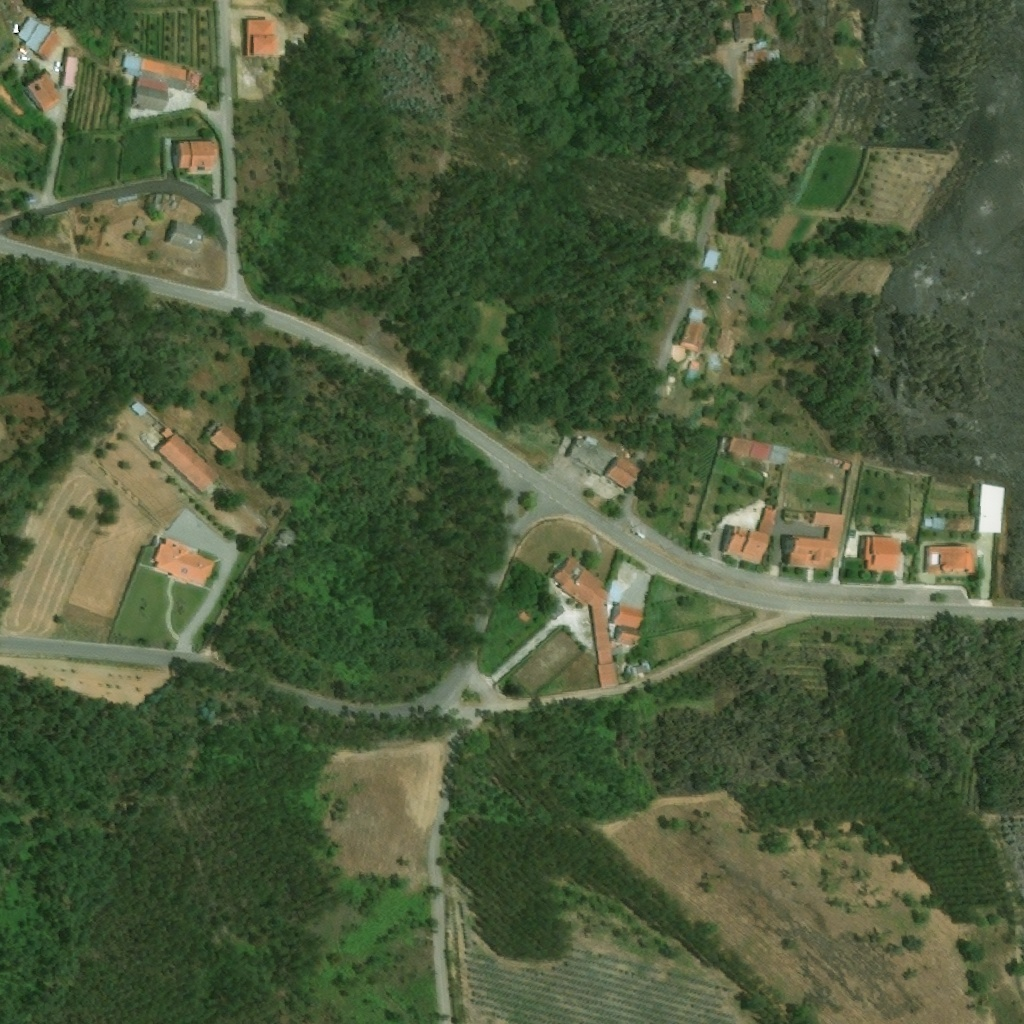0 no-damage: (155, 422, 222, 498), (149, 539, 217, 589), (552, 558, 610, 606), (567, 434, 618, 476), (720, 521, 762, 571), (922, 543, 981, 576), (172, 140, 220, 176), (787, 537, 840, 569), (24, 71, 63, 113), (976, 484, 1006, 534), (590, 606, 615, 666), (165, 219, 205, 255), (604, 455, 642, 492), (863, 536, 900, 571), (139, 54, 187, 79), (207, 422, 242, 456), (130, 86, 168, 114), (741, 527, 772, 561), (810, 510, 844, 541), (676, 318, 708, 350), (245, 19, 273, 54), (58, 49, 80, 93), (135, 69, 185, 88), (23, 21, 52, 53), (35, 30, 62, 61), (0, 86, 24, 120), (755, 503, 780, 534), (613, 603, 643, 628), (16, 13, 40, 43), (272, 527, 299, 552), (713, 328, 734, 359), (133, 77, 171, 94), (613, 625, 640, 647), (595, 665, 617, 691), (725, 437, 752, 458), (119, 52, 141, 77), (748, 441, 772, 462), (755, 48, 782, 66), (249, 36, 272, 56), (700, 249, 720, 272), (185, 67, 201, 94), (630, 658, 652, 677), (607, 580, 625, 603), (685, 358, 701, 382), (129, 399, 148, 418), (768, 446, 786, 465), (925, 516, 946, 531), (734, 21, 752, 38), (685, 306, 703, 322), (749, 39, 768, 51), (742, 51, 755, 66), (735, 11, 752, 21), (516, 610, 529, 623), (752, 6, 762, 21), (6, 24, 18, 34)
